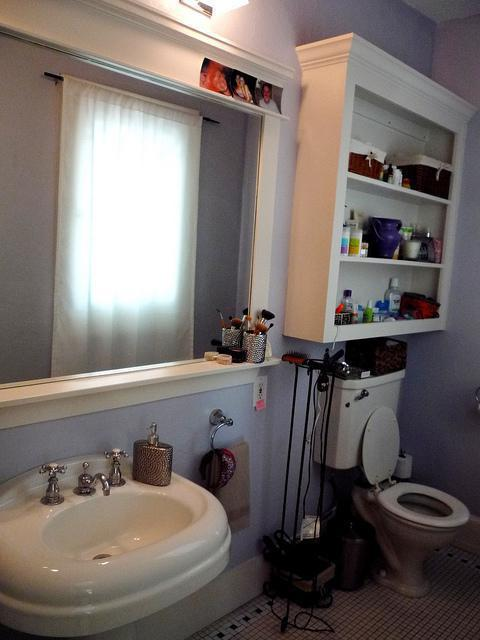Lavamanos: (8, 448, 228, 627)
Sanitario: (320, 359, 474, 606)
